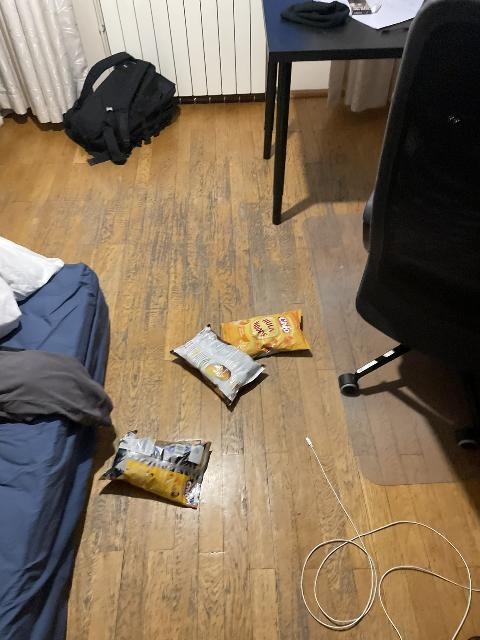Chio Cascaval 125g: (101, 430, 215, 507)
Chio Hula Hoops Cheese 70g: (221, 309, 311, 356)
Lays Beef Grilled Ribs 125g: (171, 322, 269, 405)
